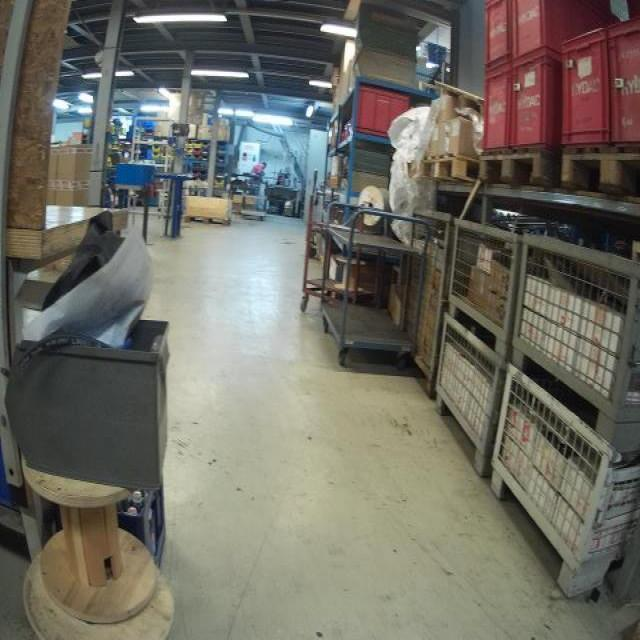pallet: (559, 144, 640, 197), (480, 149, 559, 190), (419, 154, 484, 187), (183, 212, 232, 227)
small_load_carrier: (553, 30, 611, 155), (512, 0, 609, 60), (505, 60, 561, 158), (350, 85, 417, 145), (610, 16, 639, 151), (478, 61, 511, 158), (484, 0, 516, 69)
stillage: (487, 361, 639, 607), (510, 218, 639, 456), (425, 308, 500, 485), (391, 206, 456, 407), (445, 217, 522, 362)
